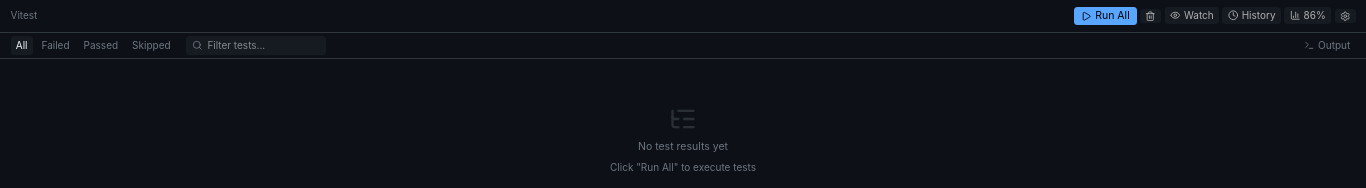
Scenario: TestRunnerPanel › shows coverage data when available
Click the button "86%" at (1308, 16), box x1=1284 y1=7 x2=1331 y2=24
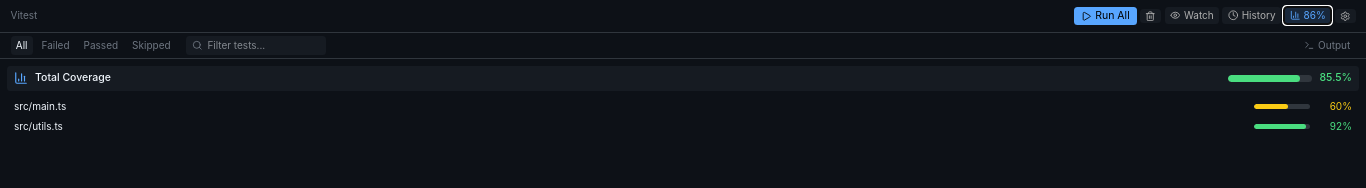
Expected: the text "Total Coverage" is shown, x1=35 y1=71 x2=111 y2=85
Expected: the text "85.5%" is shown, x1=1320 y1=71 x2=1352 y2=85
Expected: the text "src/utils.ts" is shown, x1=14 y1=120 x2=63 y2=132
